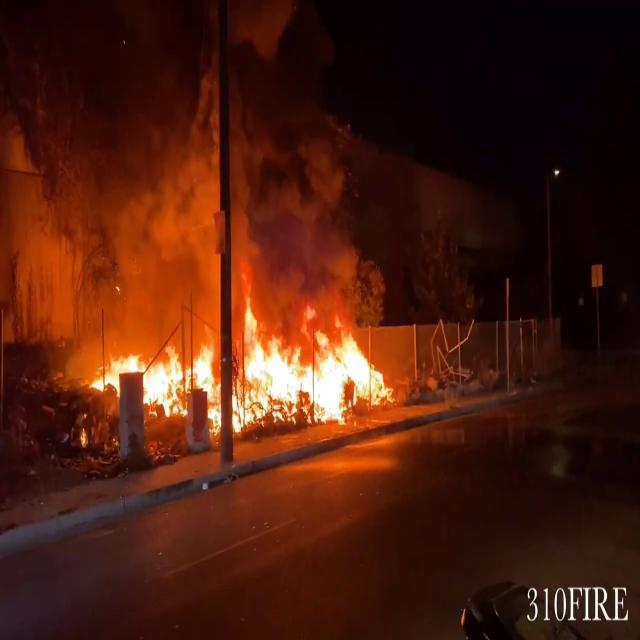Fire: (91, 294, 393, 432)
Smoke: (0, 52, 374, 324)
